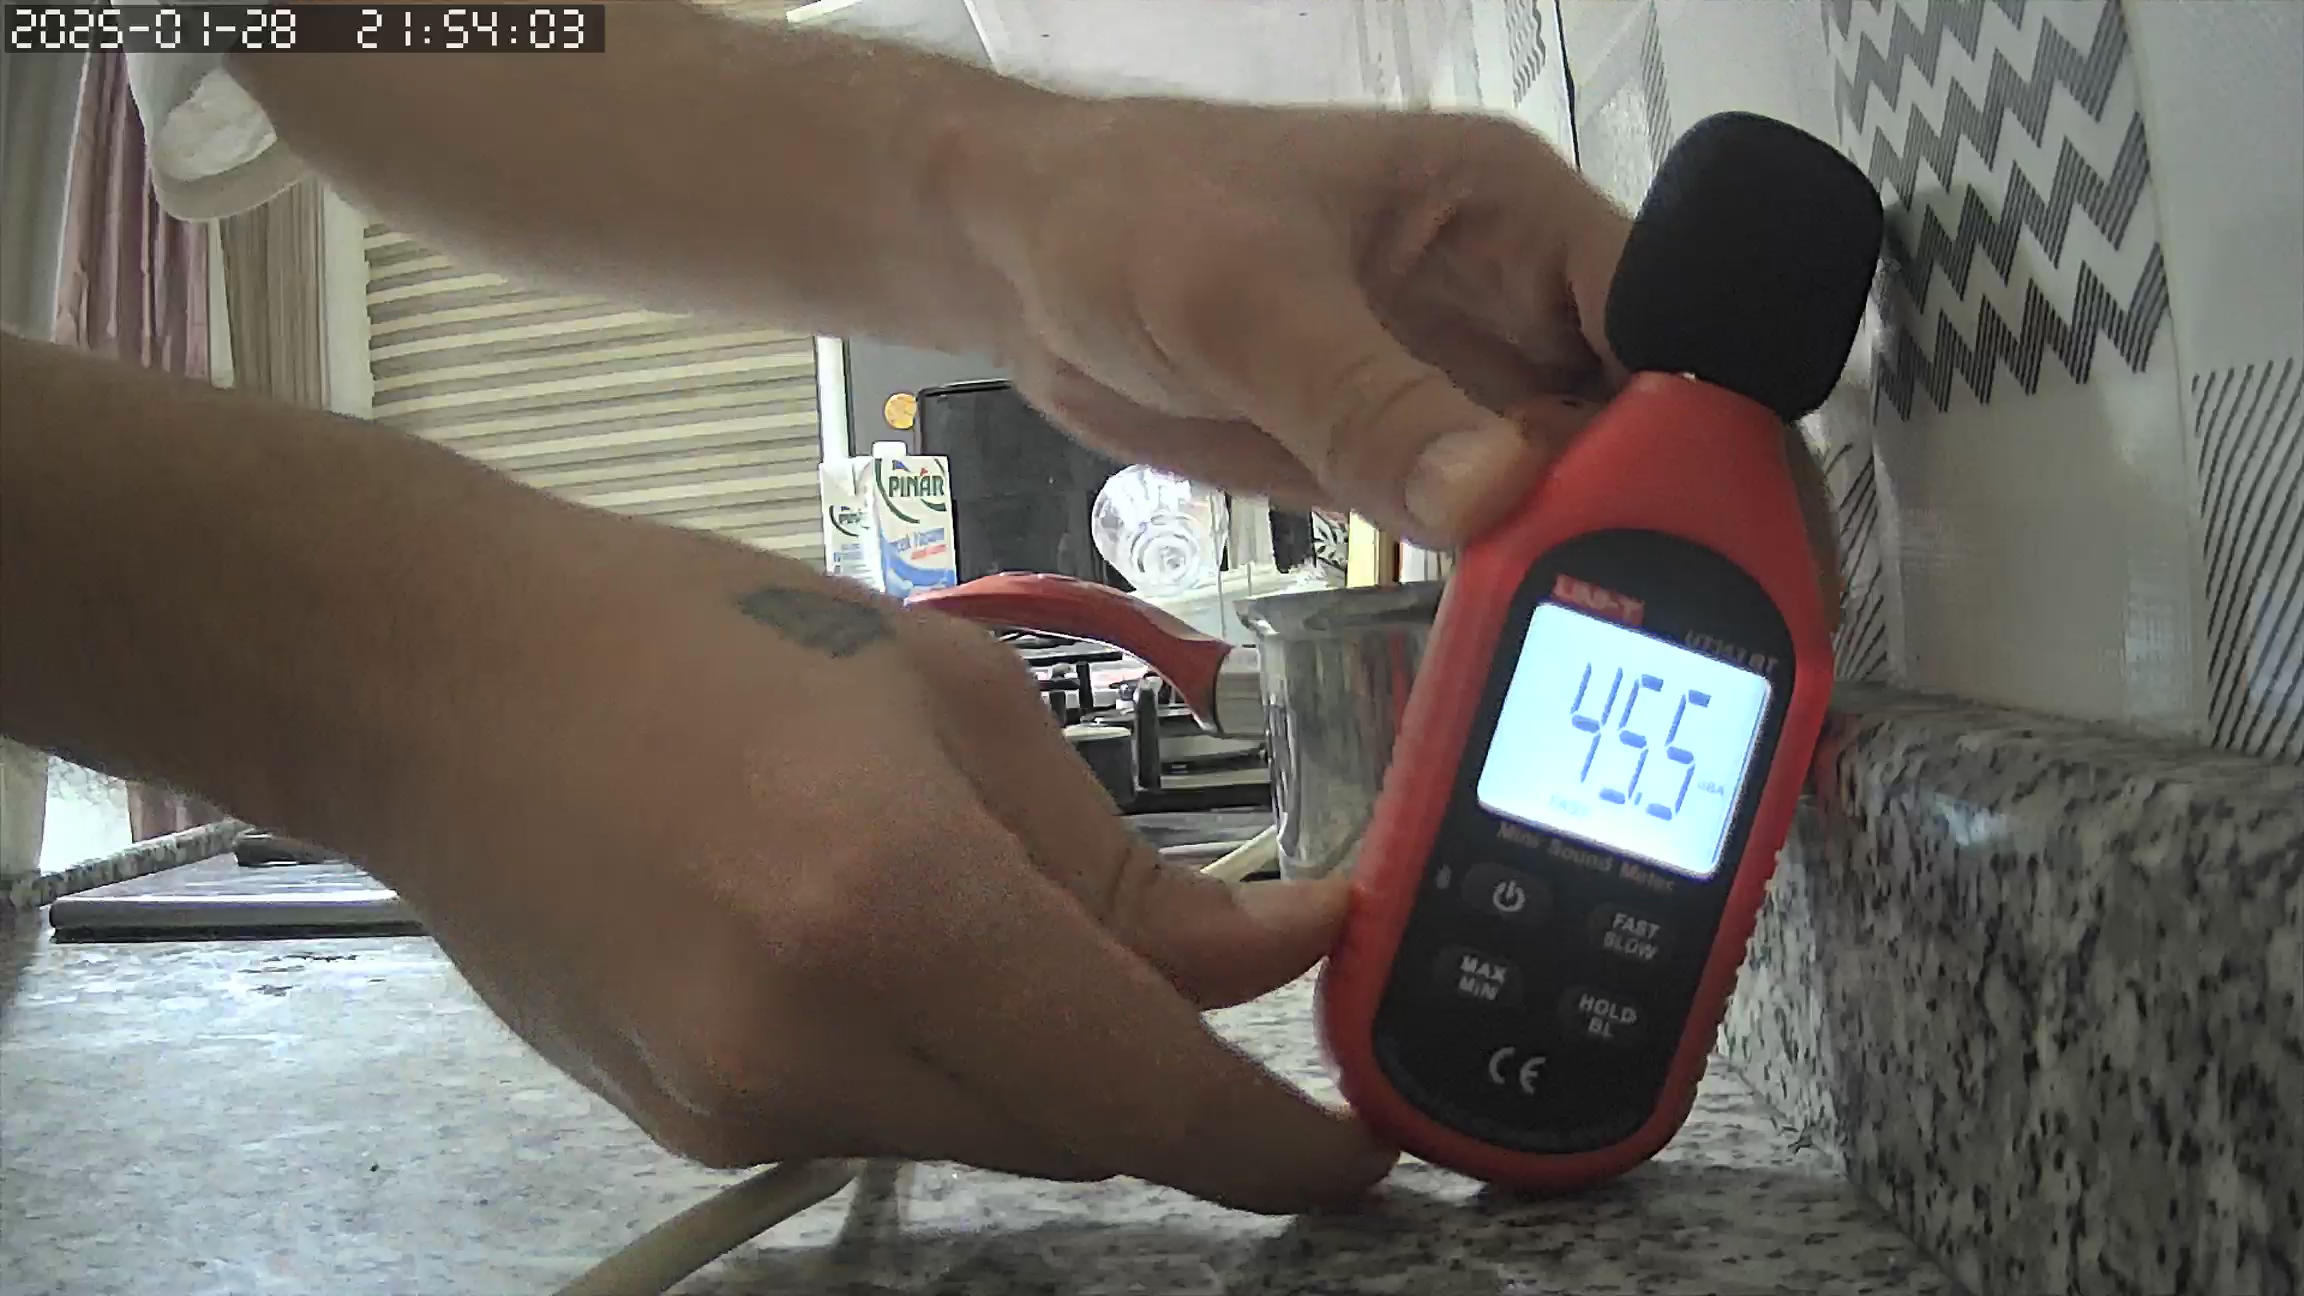screen: (1473, 601, 1769, 877)
